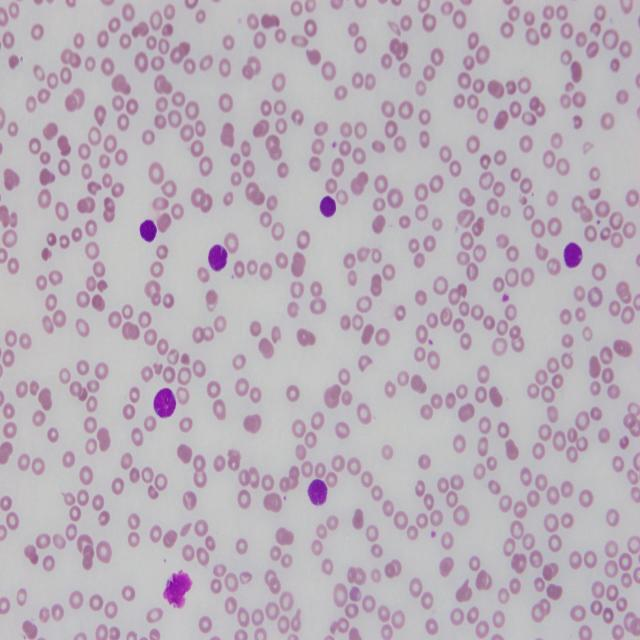cell: (308, 478, 328, 505), (208, 245, 228, 272), (564, 242, 582, 268), (140, 220, 156, 242), (320, 197, 336, 217)
